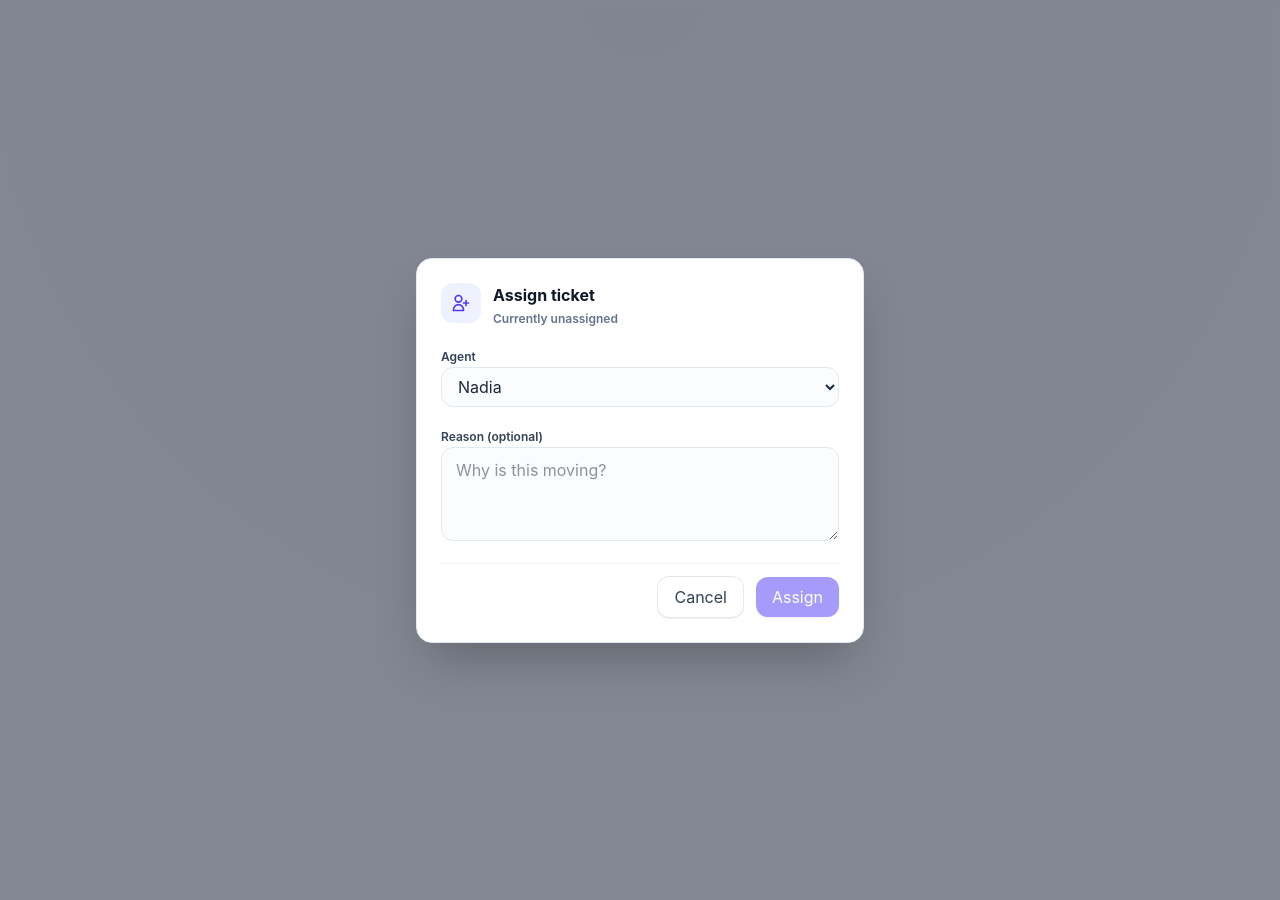
Test: TicketAssignDialog › keeps confirm disabled until an agent is chosen
Check: the button with test id "ticket-assign-confirm" is disabled, box [756,576,839,616]
Select "Nadia" in the dropdown with test id "ticket-assign-select" at (640, 386), box [441,366,839,406]
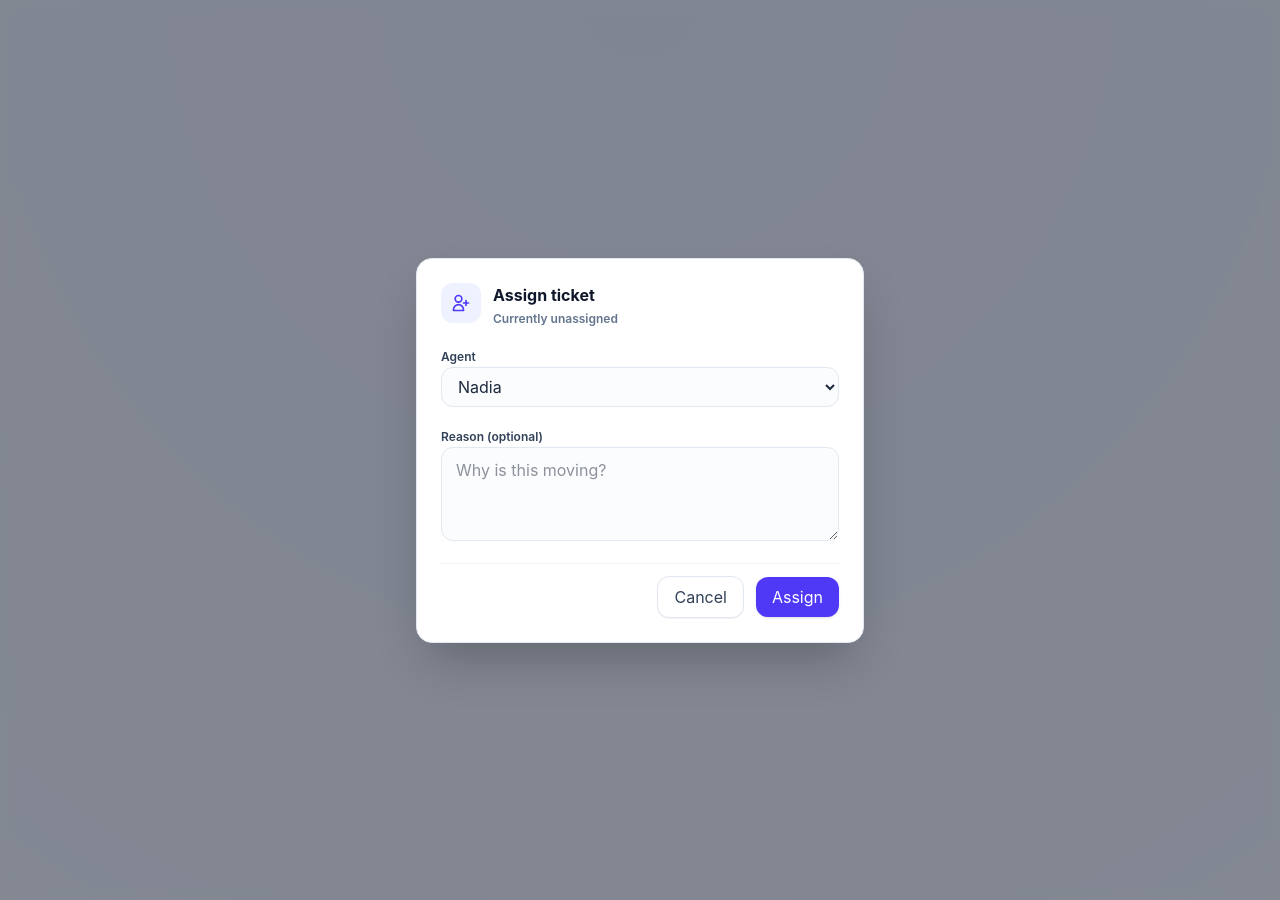
Check: the button with test id "ticket-assign-confirm" is enabled, box [756,576,839,616]
